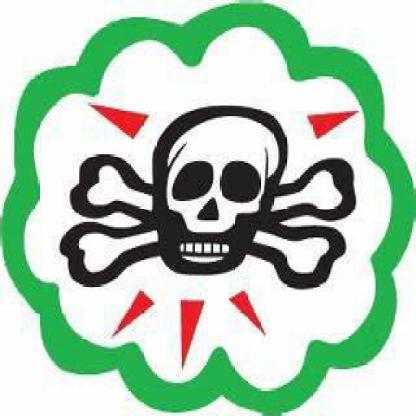skull: (53, 100, 357, 290)
